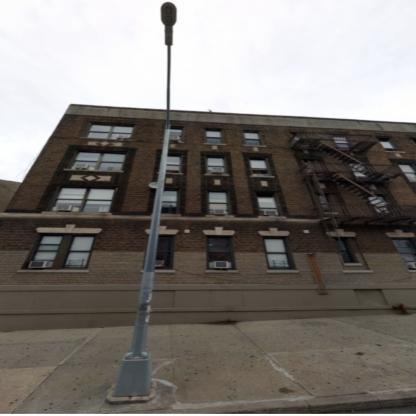Streetlights 1: (80, 0, 257, 416)
